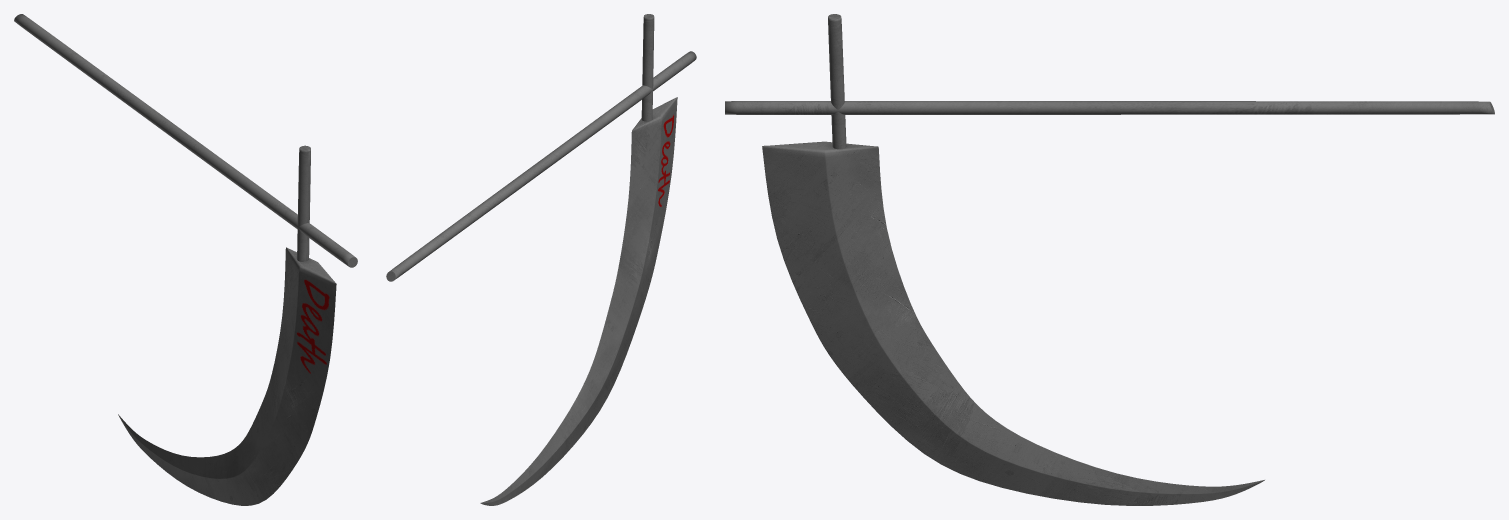
File: death_scythe_10k.fbx
3 renders of one model, left to right at view 1: azimuth 30°, elevation 25°; view 2: azimuth 150°, elevation 25°; view 3: azimuth 270°, elevation 25°, orthographic. The views are drawn at different scales.
Parts seen in each view (by area): view 1: Death_scythe_:); view 2: Death_scythe_:); view 3: Death_scythe_:).
Boxes of the visible parts, x1=… form: Death_scythe_:): x1=14, y1=14, x2=357, y2=505; Death_scythe_:): x1=386, y1=14, x2=696, y2=505; Death_scythe_:): x1=725, y1=14, x2=1494, y2=505.
Size of the model in its own units: 14.04 by 289 by 413.
